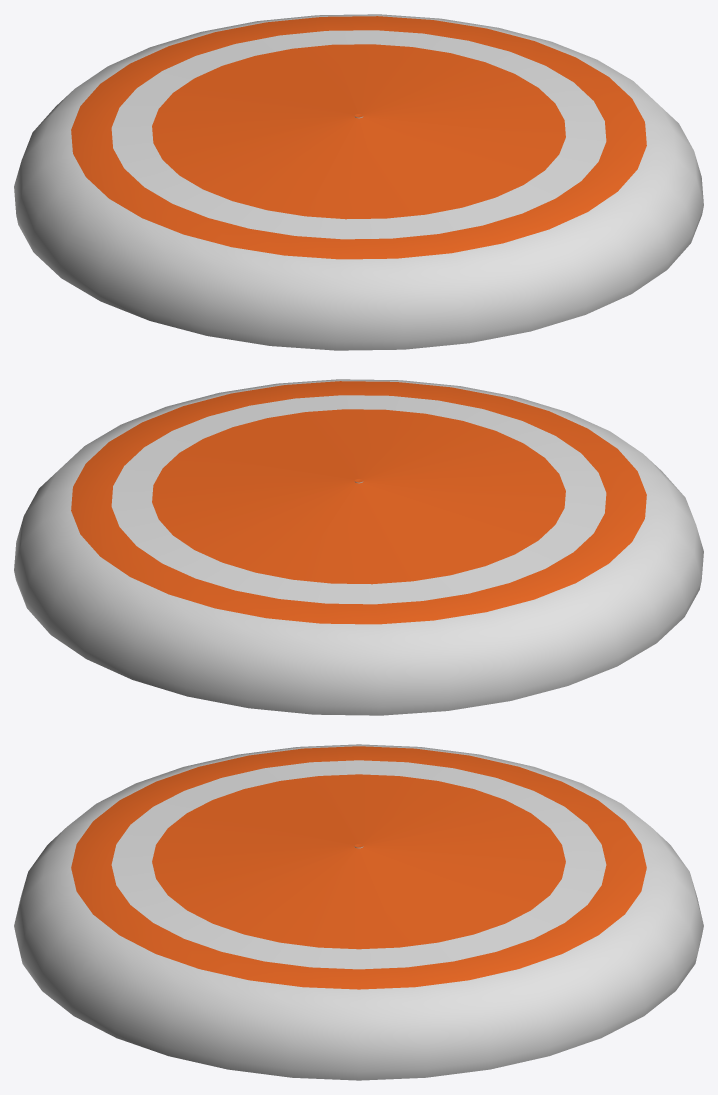
The model's file is frisbee.fbx.
The picture shows the model from 3 angles, top to bottom: view 1: azimuth 30°, elevation 25°; view 2: azimuth 150°, elevation 25°; view 3: azimuth 270°, elevation 25°; orthographic projection.
Parts seen in each view (by area): view 1: Circle; view 2: Circle; view 3: Circle.
Part boxes in pixels (<box>): Circle: <box>14,14,703,350</box>; Circle: <box>14,379,703,715</box>; Circle: <box>14,744,703,1080</box>.
Size of the model in its own units: 204 by 29.83 by 204.
